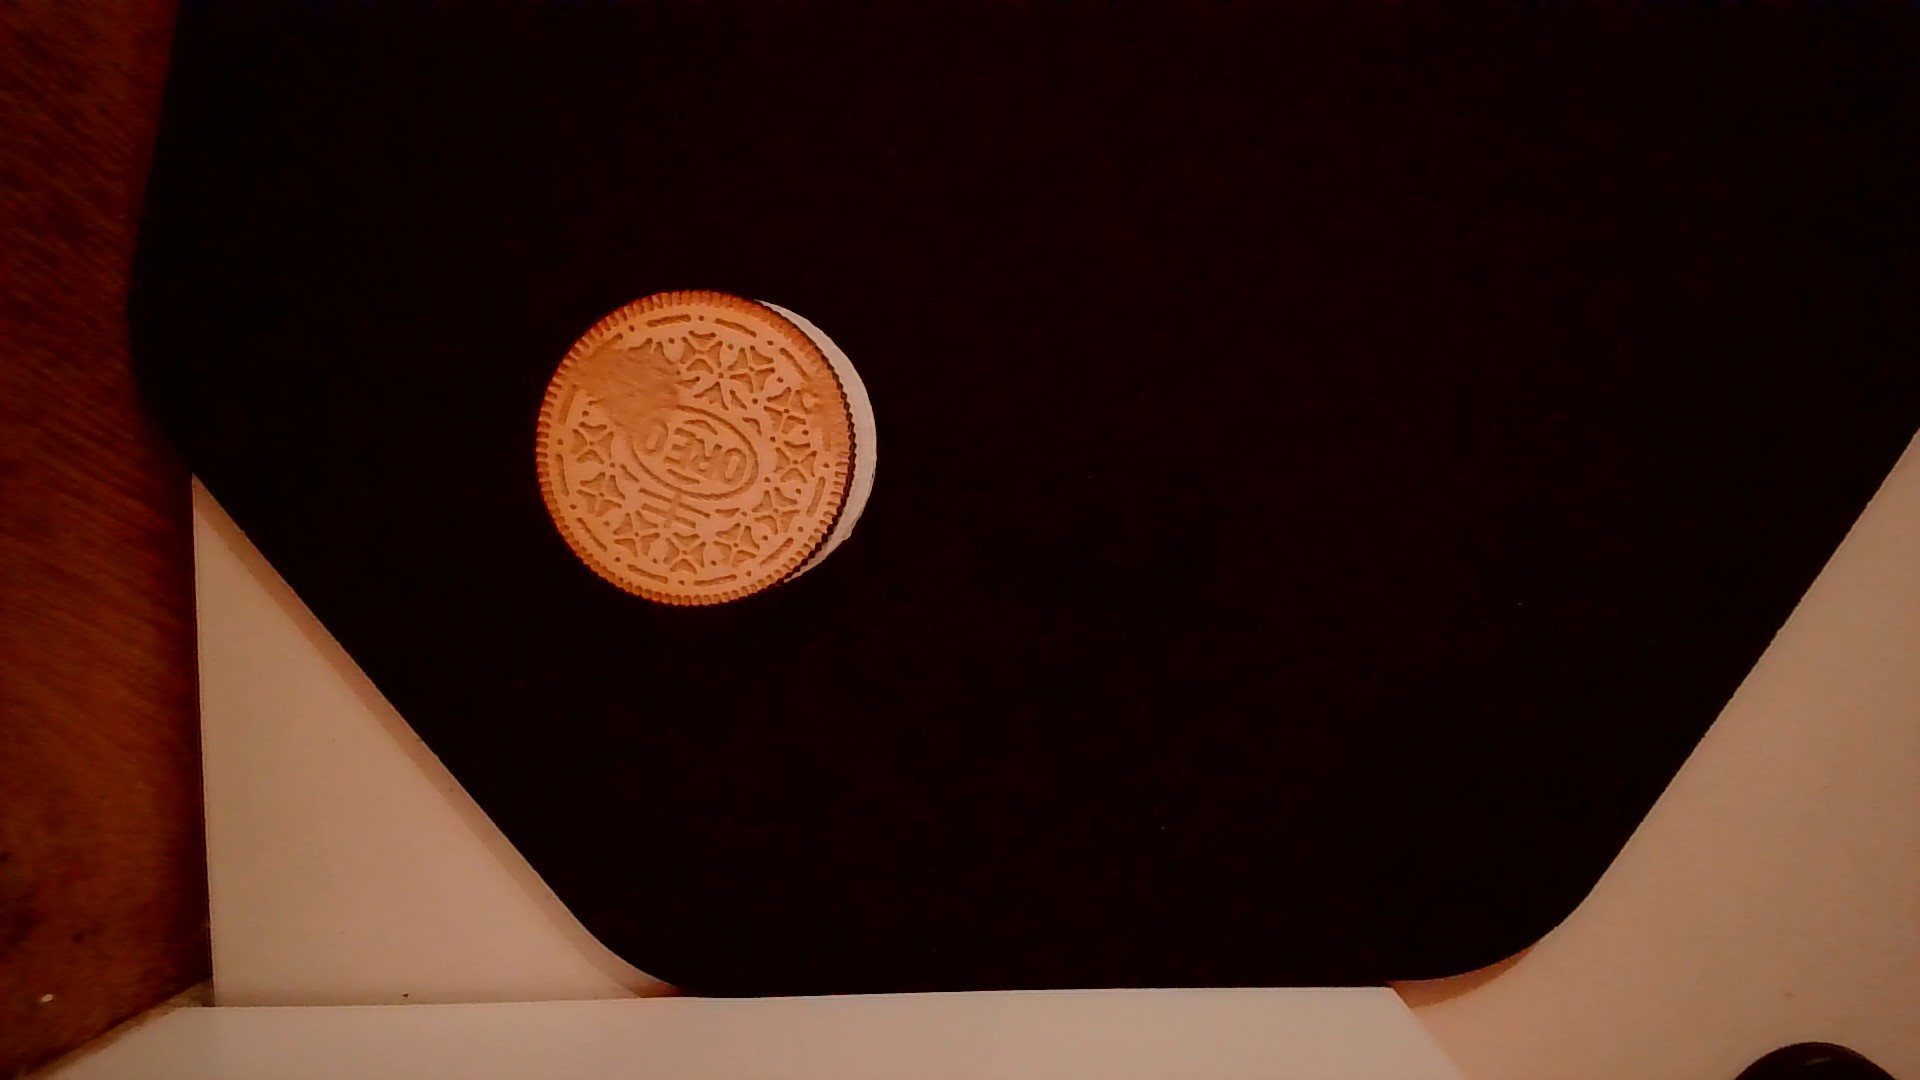Décalé: (745, 274, 890, 597)
Effacé: (591, 331, 682, 436)
Oréo: (520, 282, 884, 615)
